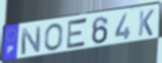4: (114, 12, 132, 41)
6: (91, 15, 110, 45)
E: (65, 17, 89, 51)
K: (137, 8, 155, 38)
N: (20, 25, 43, 56)
O: (44, 22, 64, 51)
